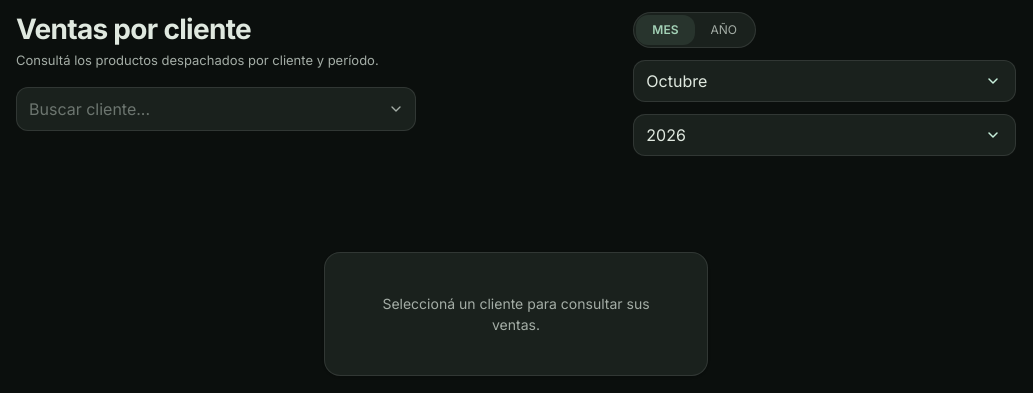
Test: VentasPage › shows friendly error, never raw backend text
Step 1. Click the dropdown with placeholder "Buscar cliente..." → (216, 108), box [16,86,416,130]
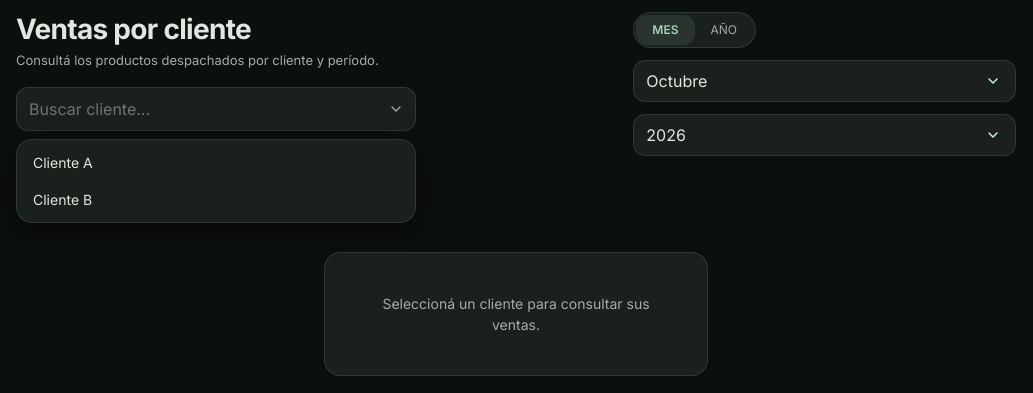
Step 2. Click the option "Cliente A" → (63, 162), box [21,144,411,180]
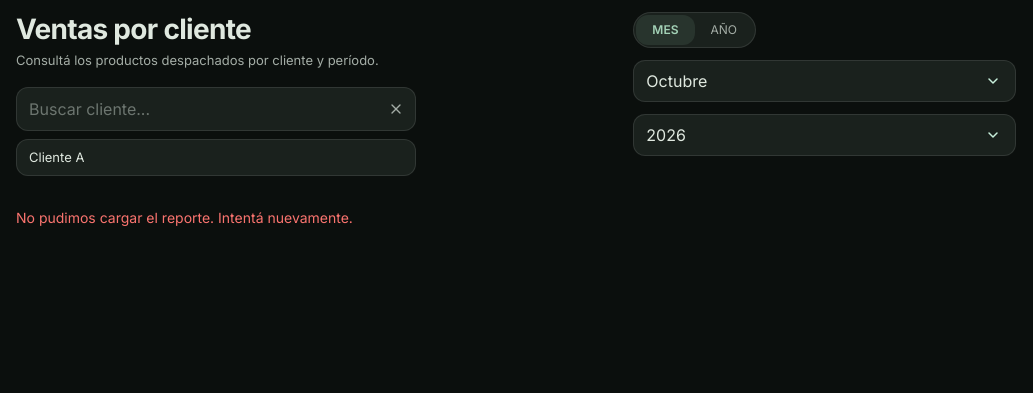
Expected: the text "No pudimos cargar el reporte. Intentá nuevamente." is shown, [16,209,353,226]
